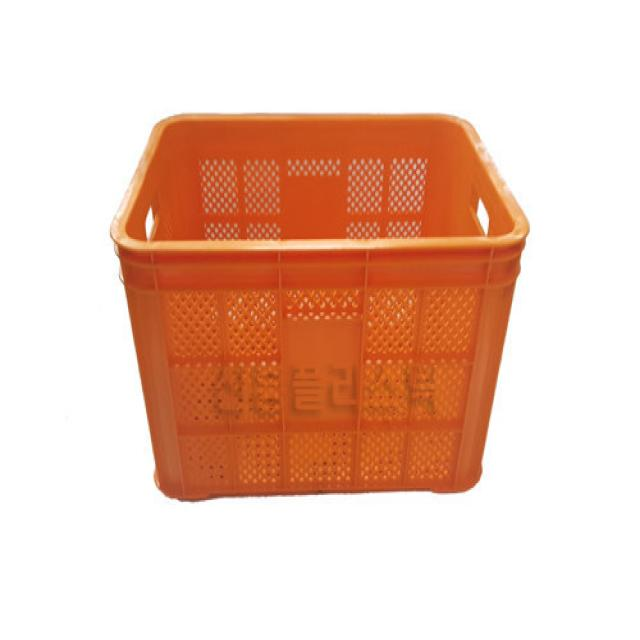basket: (111, 114, 530, 501)
